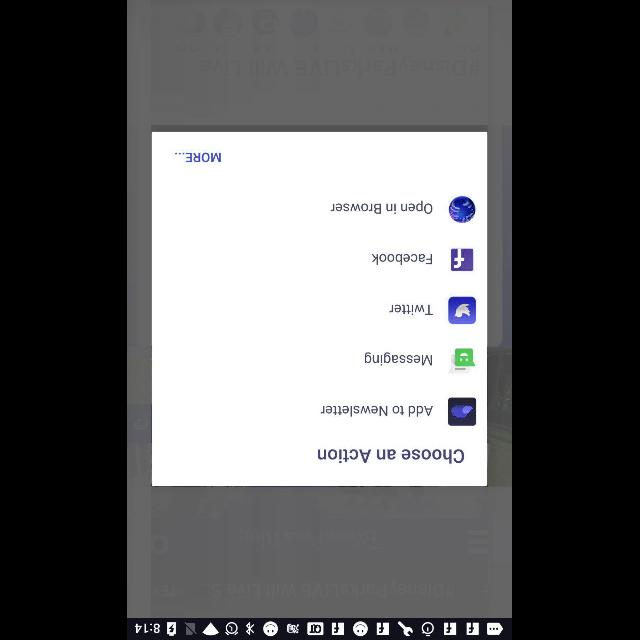icon: (449, 296, 476, 324), (452, 249, 474, 271)
image: (449, 397, 477, 425), (449, 196, 476, 224), (450, 348, 476, 374)
panel: (152, 131, 488, 485)
text: (318, 449, 466, 463), (331, 200, 433, 213), (321, 406, 433, 416), (365, 352, 433, 366), (373, 253, 433, 264), (176, 153, 222, 163), (391, 305, 434, 315)
uppertaskbar: (128, 617, 512, 639)
